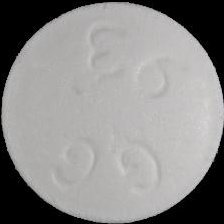66336-554: (0, 0, 224, 224)
